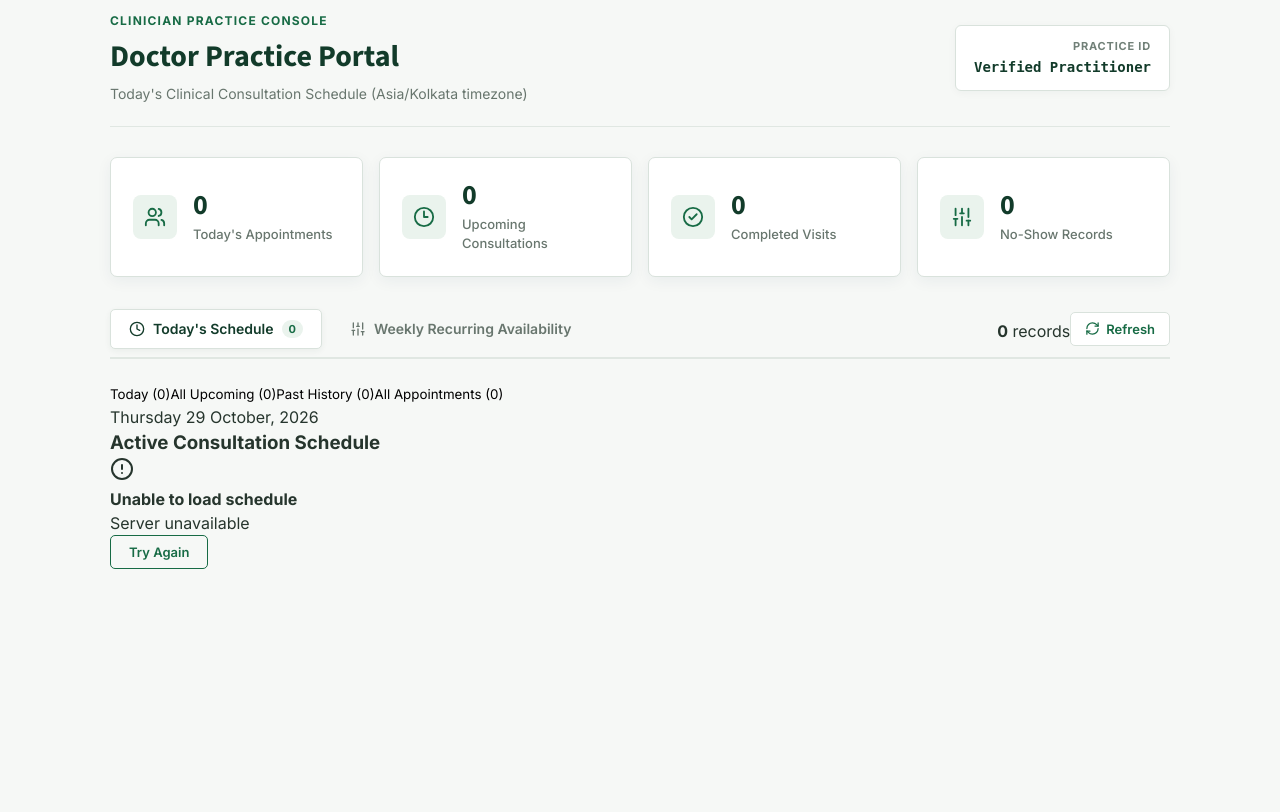
Test: DoctorDashboard › shows error state with retry button when schedule fetch fails
Expected: the text "Server unavailable" is shown, [110,513,250,533]
Click the button "Try Again" at (159, 552), box [110,535,208,569]
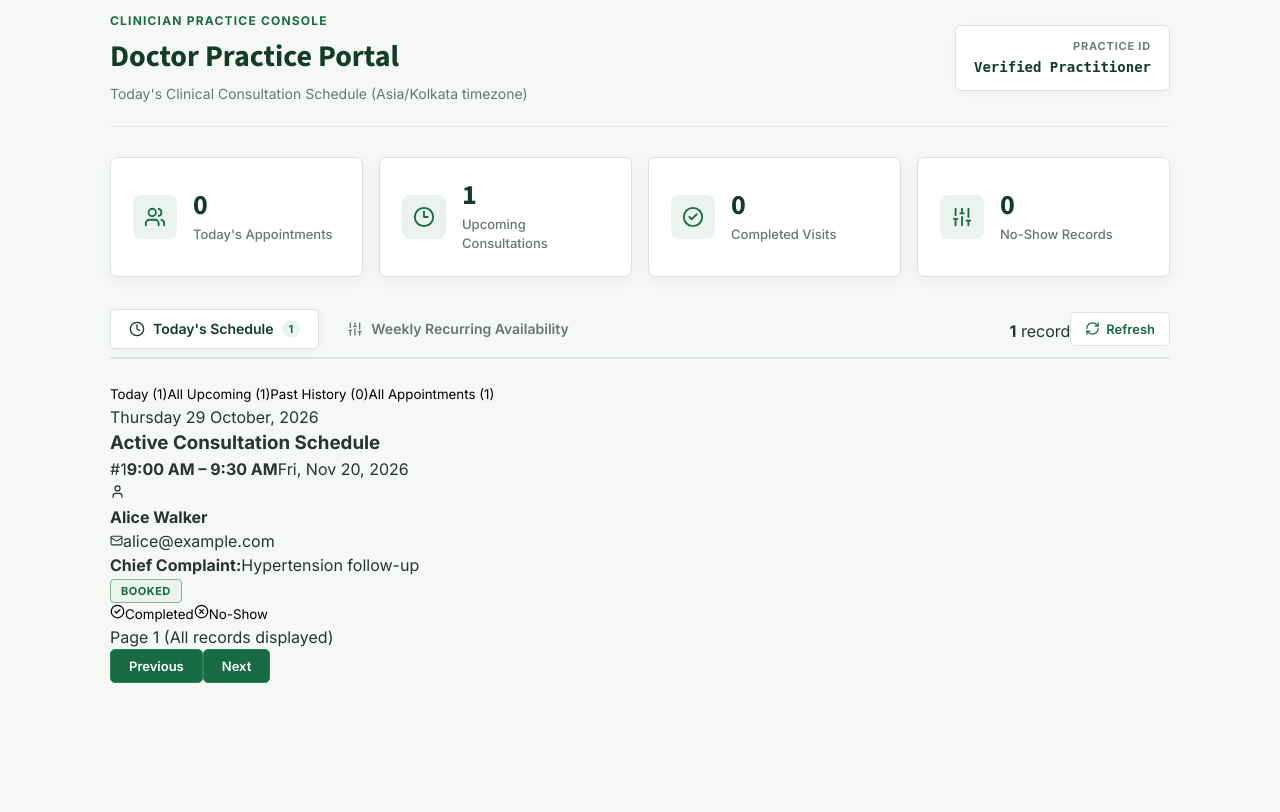
Expected: the heading "Alice Walker" is shown, [110,507,208,527]
